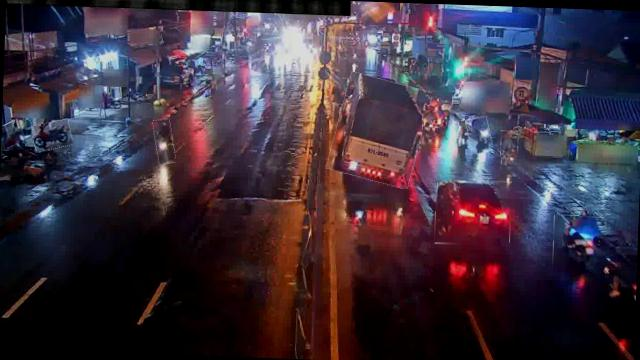Bike: (552, 215, 604, 267), (32, 120, 73, 151), (152, 118, 175, 164), (467, 117, 492, 154), (499, 131, 518, 170), (422, 106, 436, 134), (458, 120, 473, 146), (436, 108, 448, 130)
Car: (434, 178, 512, 246)
Truck: (331, 74, 429, 185)
